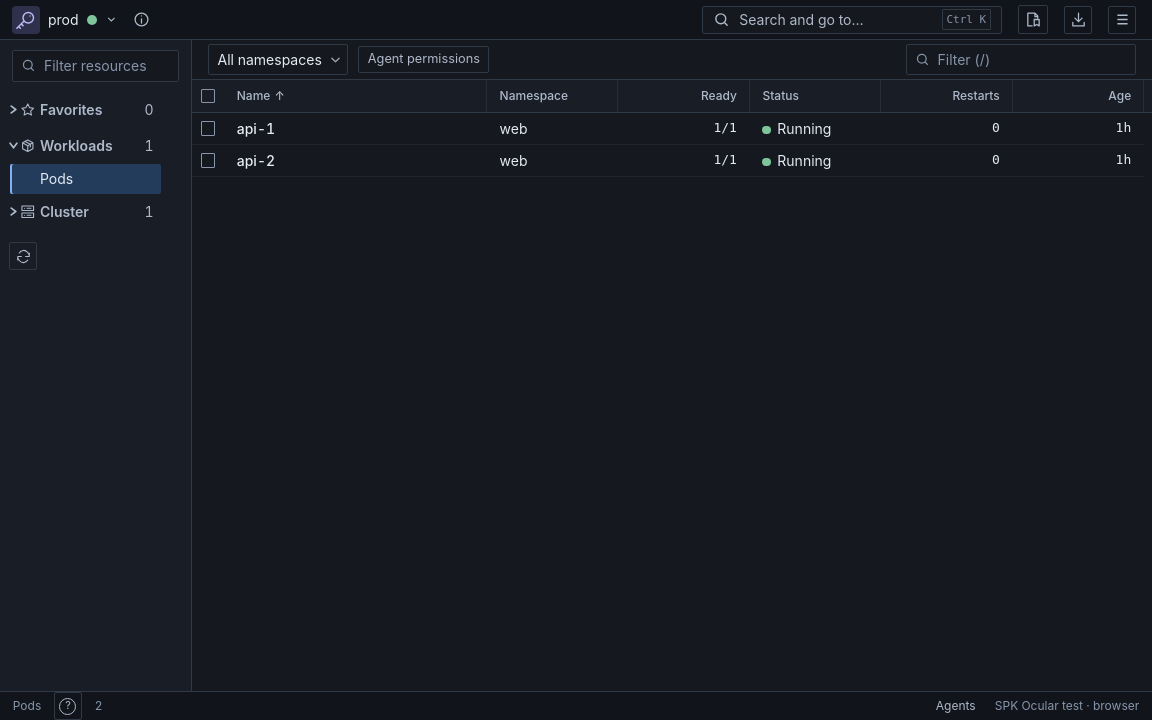
Test: actions in the workspace › the drawer menu acts on the object shown now (after following a relation)
This screenshot has width=1152, height=720.
Expected: the text "api-2" is shown, x1=237 y1=152 x2=275 y2=169
Click the text "api-1" at [256, 128], box x1=237 y1=120 x2=275 y2=137
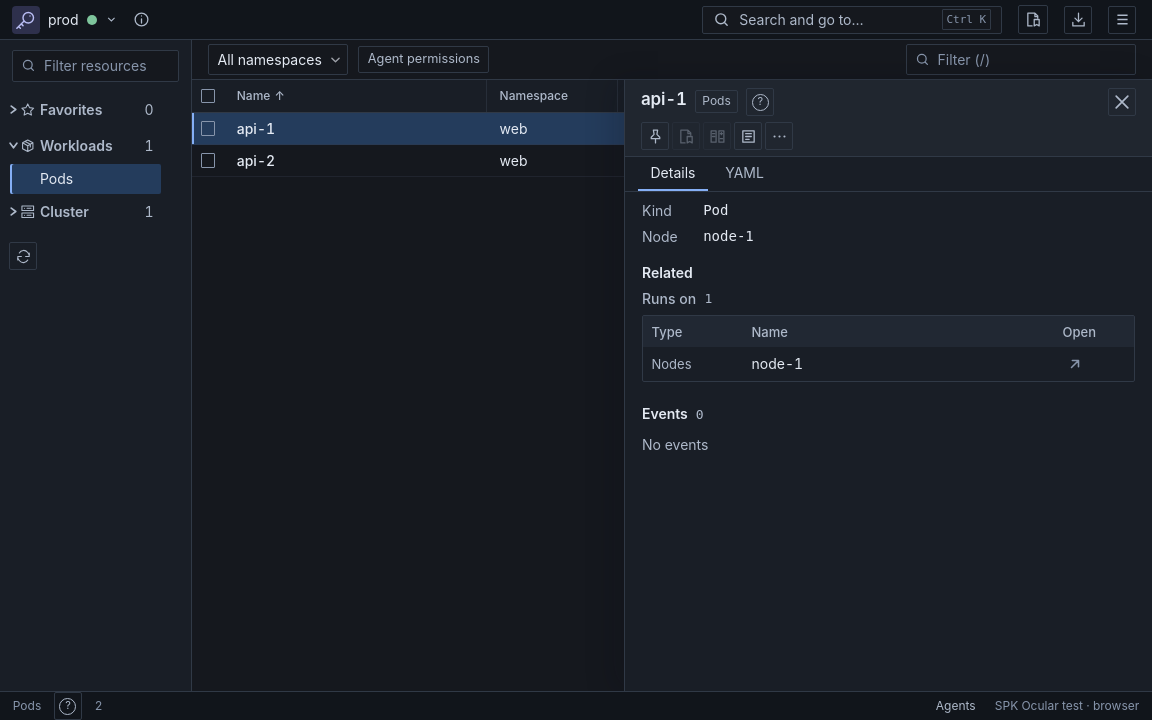
Click the button named "Actions" at [779, 136], box x1=765 y1=122 x2=793 y2=150
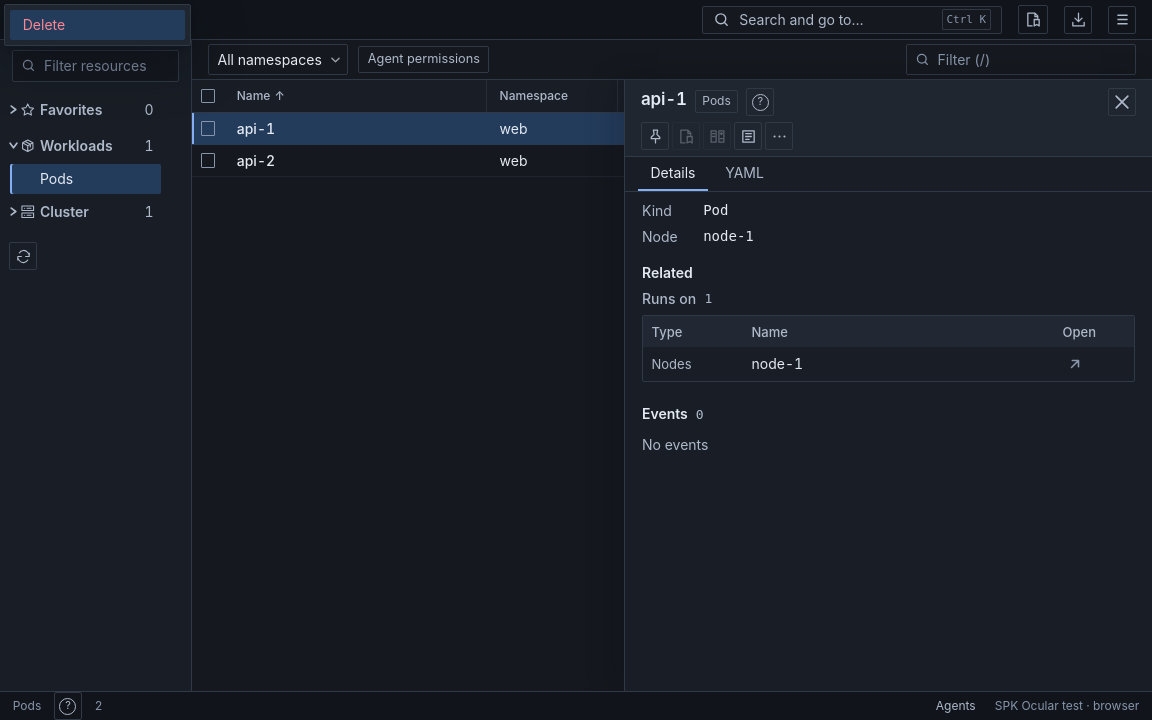
Expected: the menu items read "Delete", in this order, x1=10 y1=10 x2=185 y2=40
Press Escape
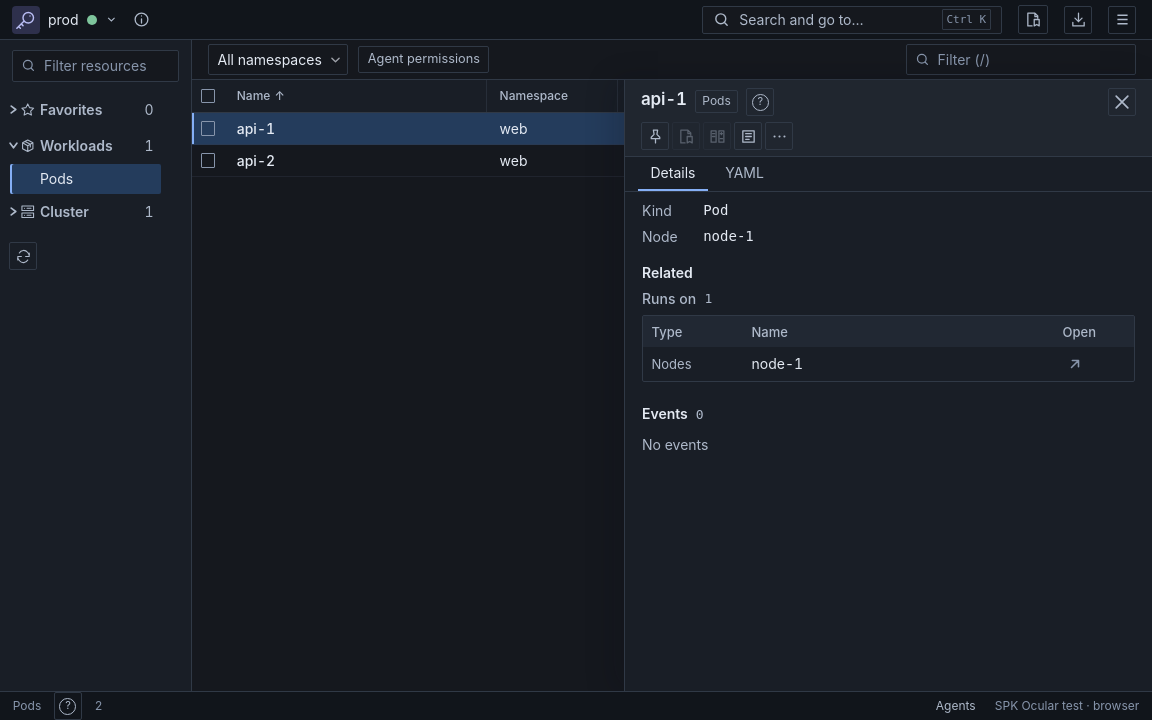
Expected: the dialog named "pods api-1" is shown, x1=624 y1=80 x2=1151 y2=691
Expected: the menu is gone
Click the button named "nodes/node-1" at [1075, 364], box x1=1062 y1=352 x2=1088 y2=377
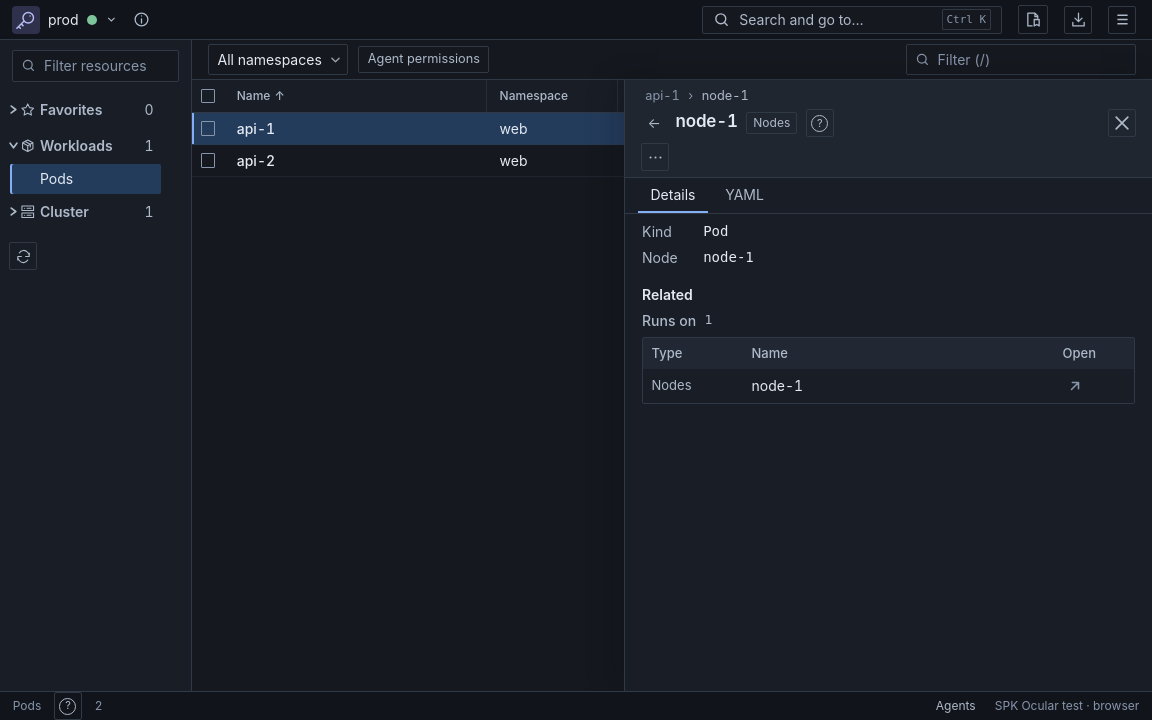
Expected: the dialog named "nodes node-1" is shown, x1=624 y1=80 x2=1151 y2=691
Click the button named "Actions" at [655, 157], box x1=641 y1=143 x2=669 y2=171
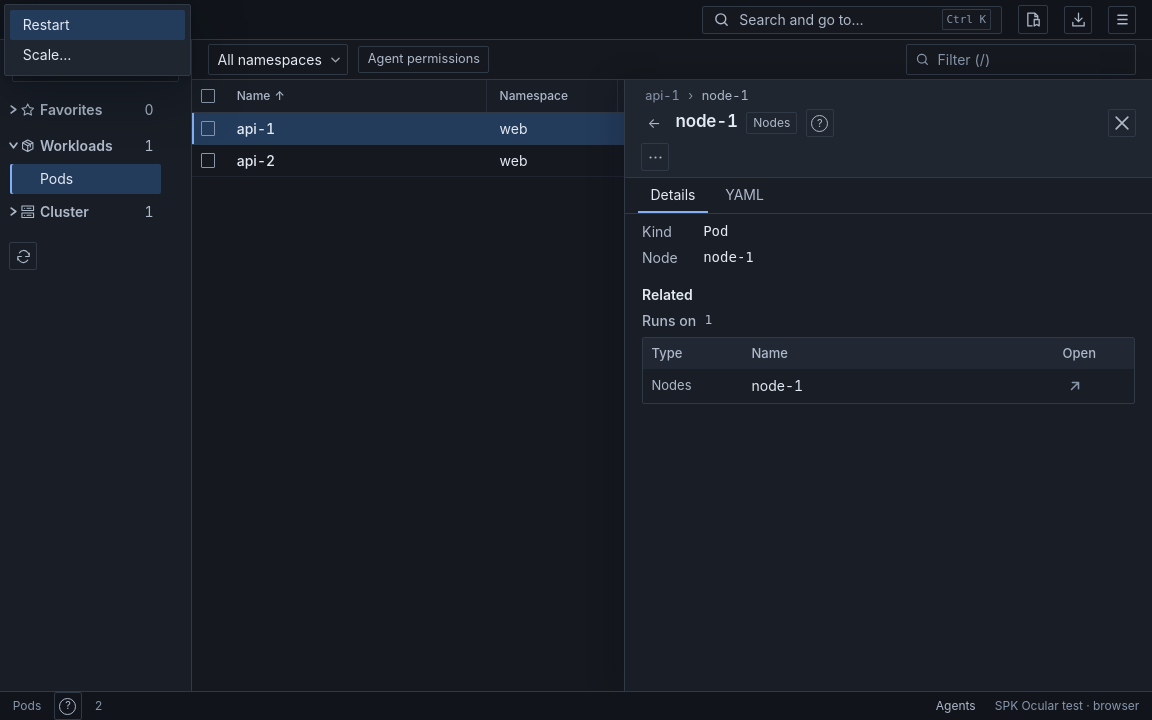
Expected: the menu items read "Restart", "Scale…", in this order
Click the menu item "Scale…" at [98, 55], box x1=10 y1=40 x2=185 y2=70
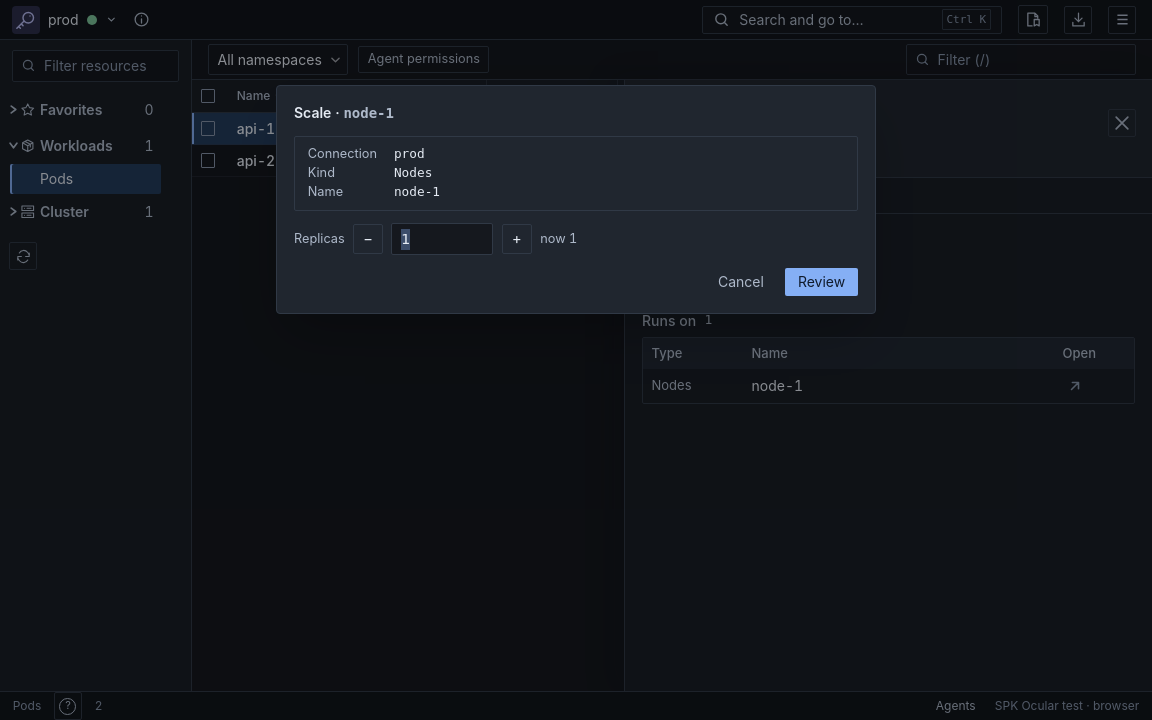
Expected: the dialog named "Scale node-1" shows "Nodes", x1=394 y1=165 x2=432 y2=180
Expected: the field holds "1", x1=392 y1=223 x2=494 y2=255
